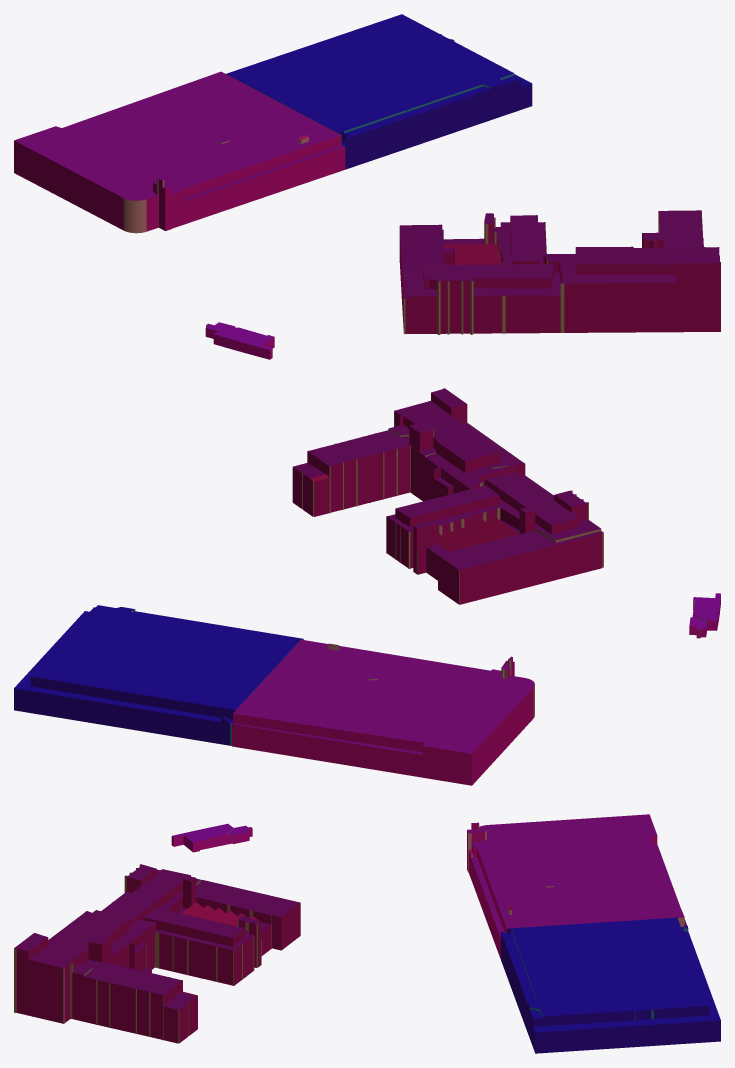
Rendered from buildings_9_7.glb.
3 views of the same model, one above another, from view 1: azimuth 30°, elevation 25°; view 2: azimuth 150°, elevation 25°; view 3: azimuth 270°, elevation 25° (orthographic). The views are drawn at different scales.
Parts seen in each view (by area): view 1: buildings_9_7; view 2: buildings_9_7; view 3: buildings_9_7.
Part boxes in pixels (box(x1,y1,x2,y2)): buildings_9_7: box(14, 14, 720, 359); buildings_9_7: box(14, 388, 720, 785); buildings_9_7: box(14, 814, 720, 1053).
Bounding box in the file's own units: 172 × 23.44 × 233.
